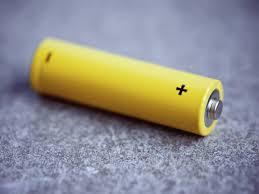AA: (28, 36, 224, 137)
